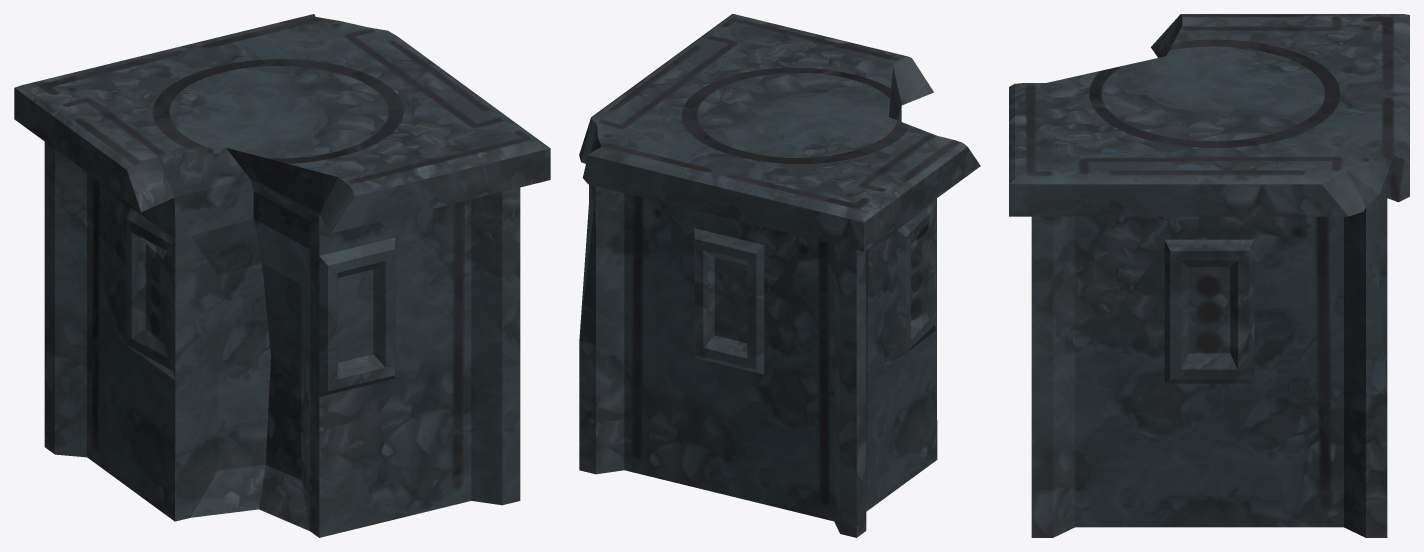
Rendered from pedestalBroken.fbx.
3 renders of one model, left to right at view 1: azimuth 30°, elevation 25°; view 2: azimuth 150°, elevation 25°; view 3: azimuth 270°, elevation 25°, orthographic. The views are drawn at different scales.
Visible parts, largest first — view 1: pedestalBroken; view 2: pedestalBroken; view 3: pedestalBroken.
Part boxes in pixels (box(x1,y1,x2,y2)): pedestalBroken: box(14, 14, 550, 537); pedestalBroken: box(579, 14, 980, 537); pedestalBroken: box(1009, 14, 1409, 537).
Size of the model in its own units: 1281 by 1298 by 1281.
